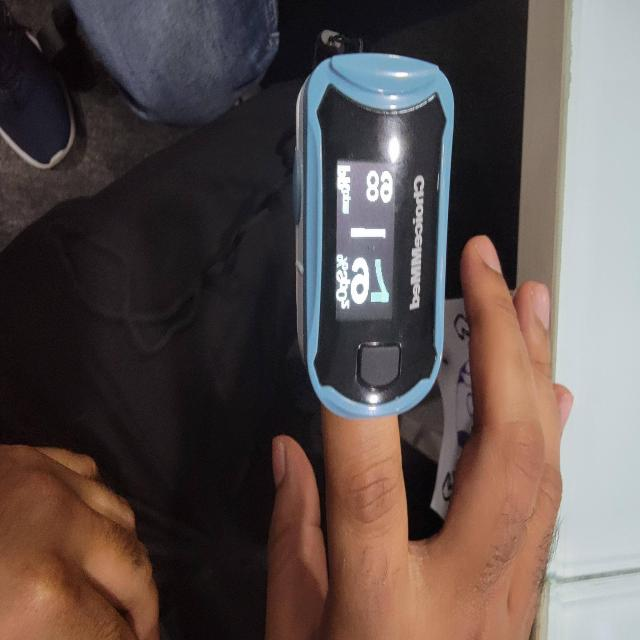spo2: (295, 53, 455, 422)
